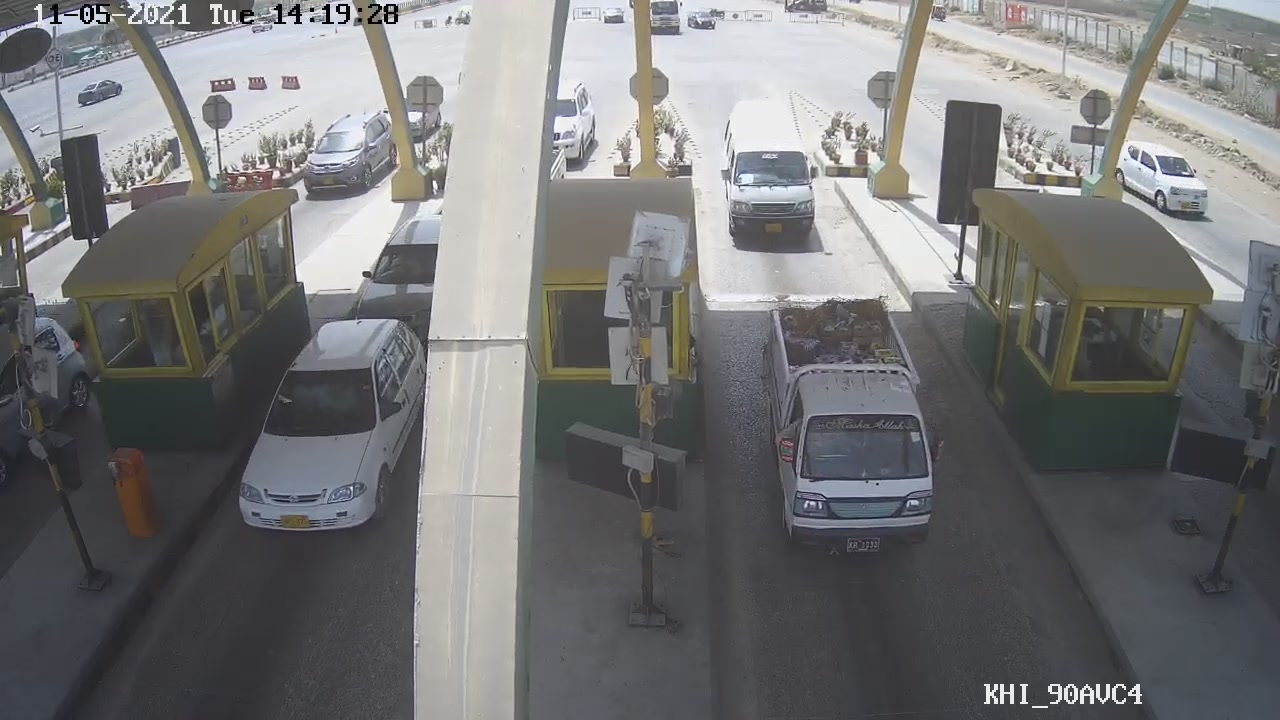F1: (755, 290, 944, 567)
